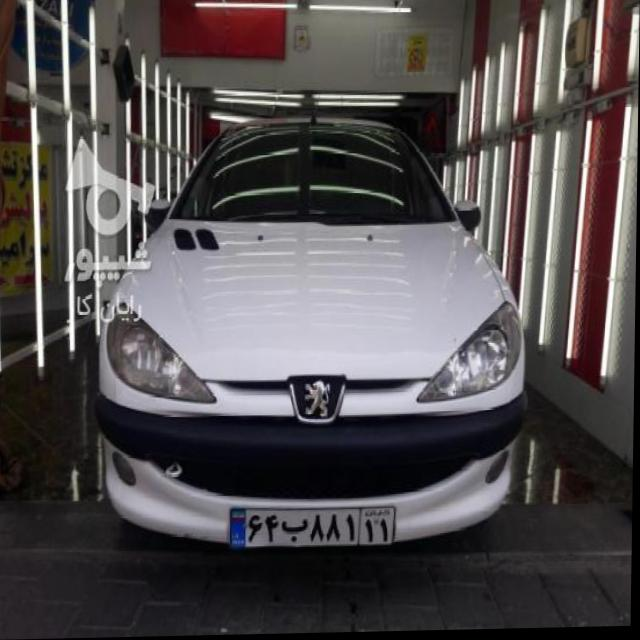licence: (228, 497, 399, 551)
